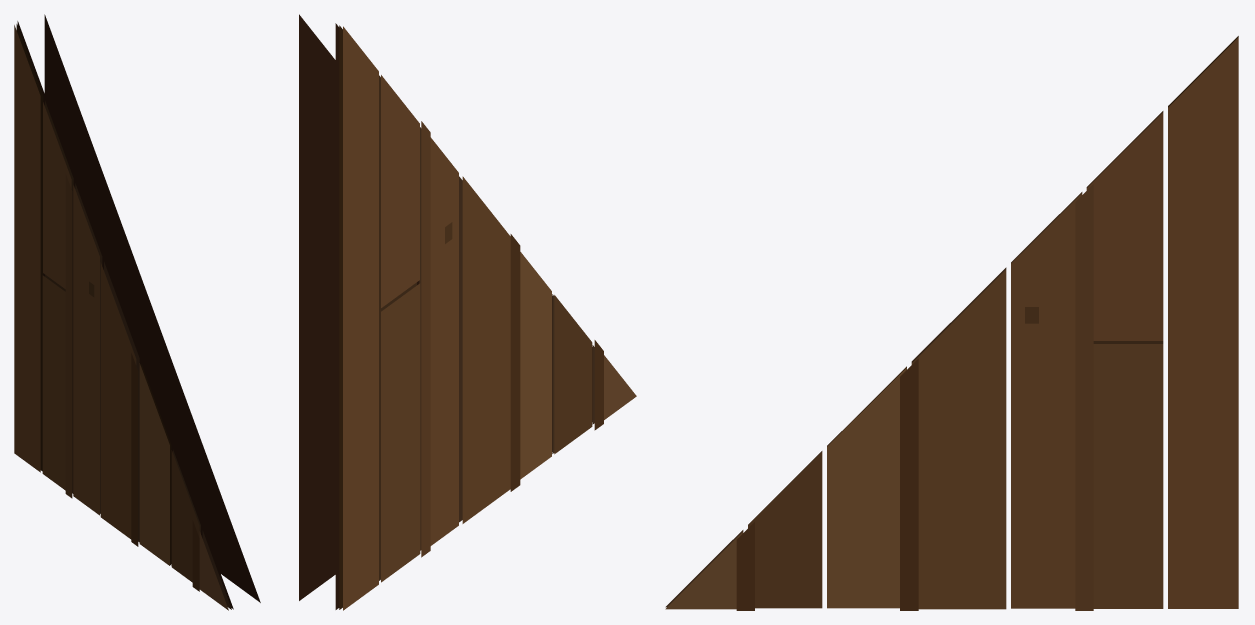
The model's file is wall-timber-gable-r-steep.glb.
3 renders of one model, left to right at view 1: azimuth 30°, elevation 25°; view 2: azimuth 150°, elevation 25°; view 3: azimuth 270°, elevation 25°, orthographic. The views are drawn at different scales.
Parts seen in each view (by area): view 1: wall-timber-gable-r-steep; view 2: wall-timber-gable-r-steep; view 3: wall-timber-gable-r-steep.
Boxes of the visible parts, x1=… form: wall-timber-gable-r-steep: x1=14, y1=14, x2=260, y2=610; wall-timber-gable-r-steep: x1=299, y1=14, x2=636, y2=610; wall-timber-gable-r-steep: x1=665, y1=36, x2=1238, y2=610.
Size of the model in its own units: 0.112 by 1.1 by 1.
